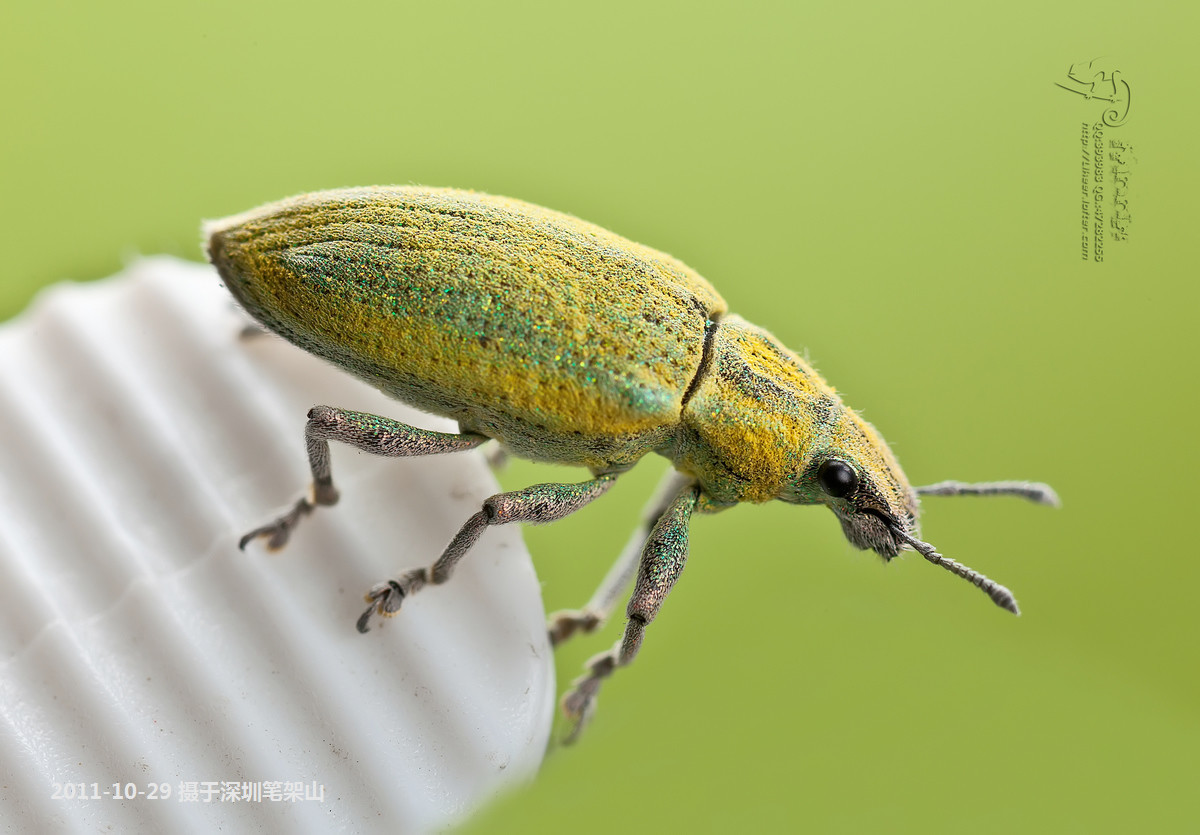Curculionidae: (199, 180, 1061, 751)
